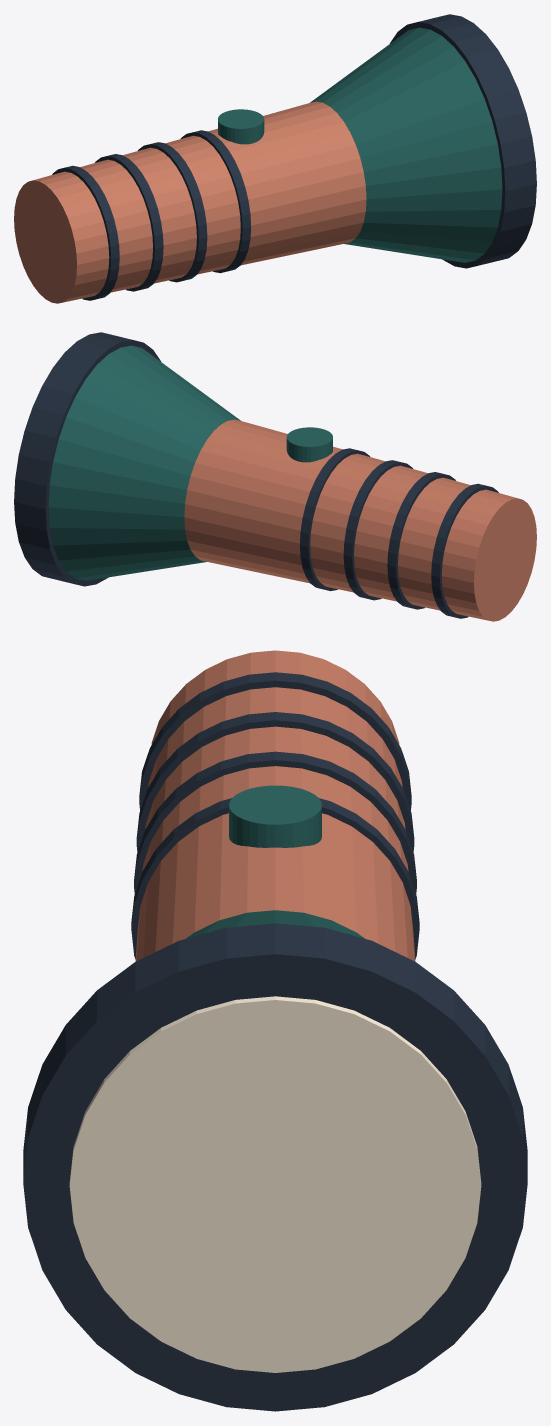
The model's file is flashlight.glb.
3 renders of one model, top to bottom at view 1: azimuth 30°, elevation 25°; view 2: azimuth 150°, elevation 25°; view 3: azimuth 270°, elevation 25°, orthographic. The views are drawn at different scales.
Visible parts, largest first — view 1: grip, head, bezel, grip ring 3, grip ring 2, grip ring 1, grip ring 0, switch; view 2: grip, head, bezel, grip ring 3, grip ring 2, grip ring 1, grip ring 0, switch; view 3: lens, bezel, grip, switch, grip ring 0, grip ring 1, grip ring 2, grip ring 3, head.
Boxes of the visible parts, <box> form: grip: <box>14,101,366,303</box>; head: <box>310,27,502,262</box>; bezel: <box>389,14,536,268</box>; grip ring 3: <box>180,130,250,273</box>; grip ring 2: <box>138,142,207,282</box>; grip ring 1: <box>95,154,163,291</box>; grip ring 0: <box>52,165,119,300</box>; switch: <box>218,109,264,144</box>; grip: <box>184,419,536,621</box>; head: <box>48,345,240,580</box>; bezel: <box>14,332,161,586</box>; grip ring 3: <box>300,448,370,591</box>; grip ring 2: <box>343,460,412,600</box>; grip ring 1: <box>387,472,455,609</box>; grip ring 0: <box>431,483,498,618</box>; switch: <box>286,427,332,462</box>; lens: <box>69,996,481,1372</box>; bezel: <box>23,923,527,1411</box>; grip: <box>135,650,415,961</box>; switch: <box>229,785,321,847</box>; grip ring 0: <box>139,672,411,810</box>; grip ring 1: <box>136,712,414,852</box>; grip ring 2: <box>134,751,416,894</box>; grip ring 3: <box>131,798,419,959</box>; head: <box>186,910,364,938</box>.
Bounding box in the file's own units: 1.5 × 0.76 × 0.76.
